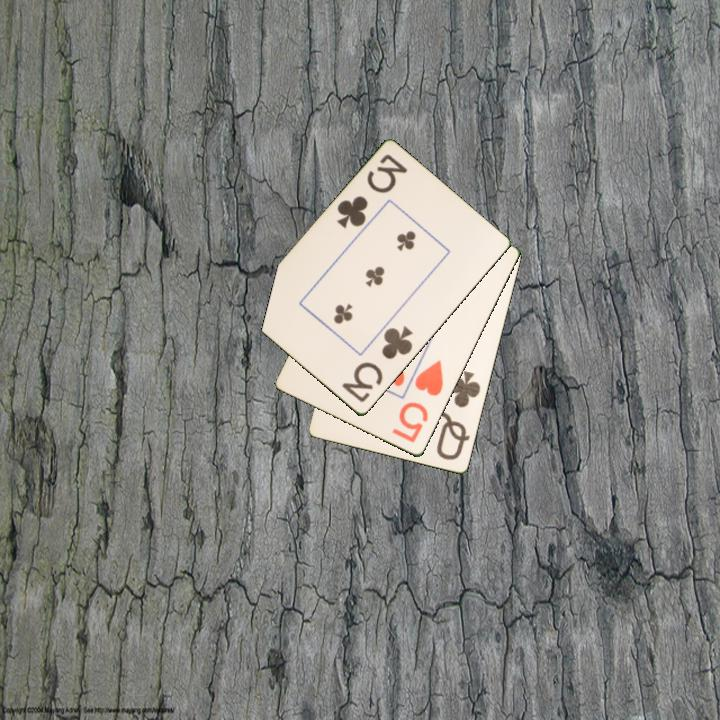3c: (338, 322, 416, 406), (333, 150, 411, 232)
5h: (388, 357, 447, 446)
Qc: (433, 368, 484, 463)
